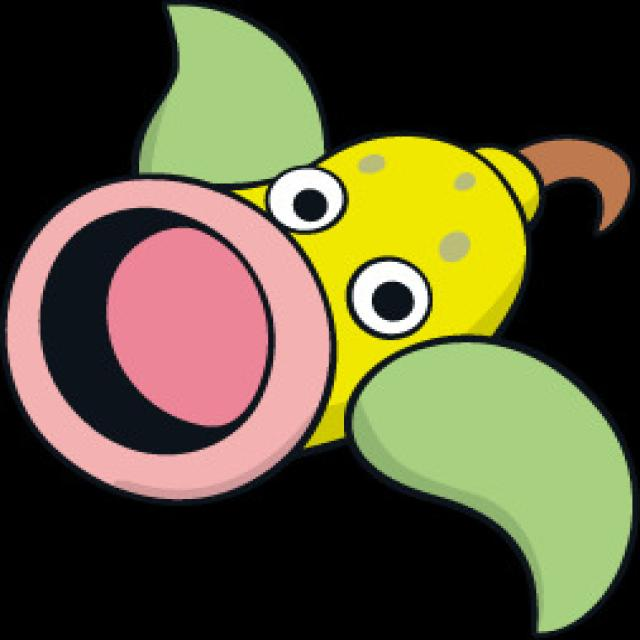Weepinbell: (9, 126, 571, 502)
